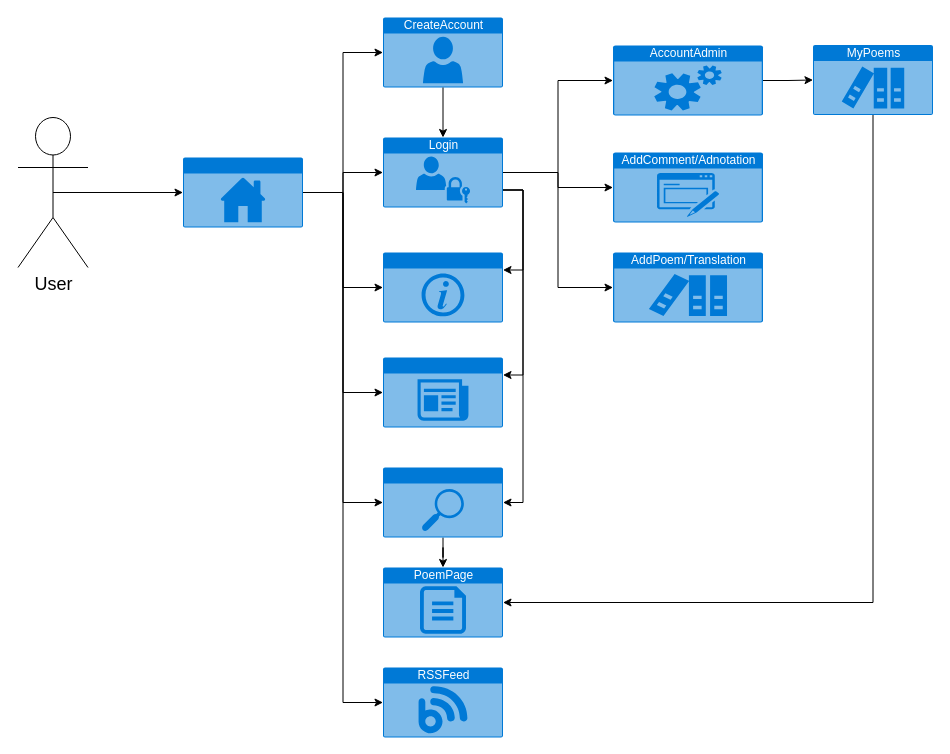
Image size: 950x754. Some labels were removed from this diagram. The centre of each missing label's shape, as x and y in pixels:
AboutUs: point 442,287
Feed: point 442,392
Home: point 242,192
SearchResults: point 442,502
